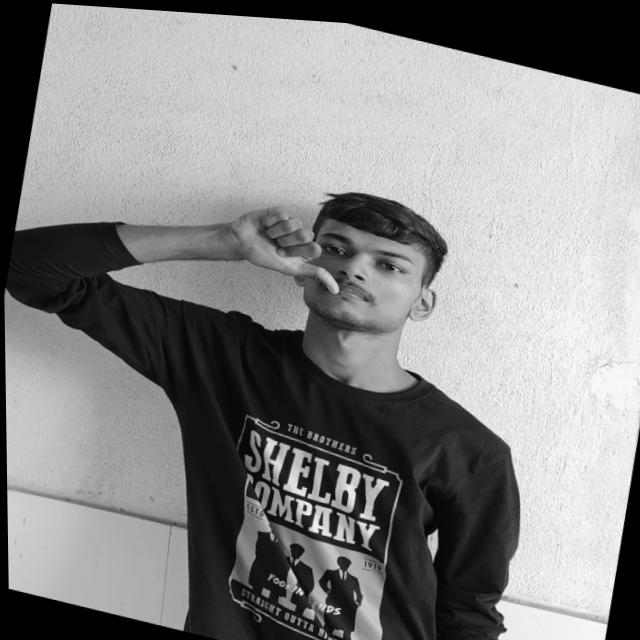Drink: (214, 185, 355, 296)
